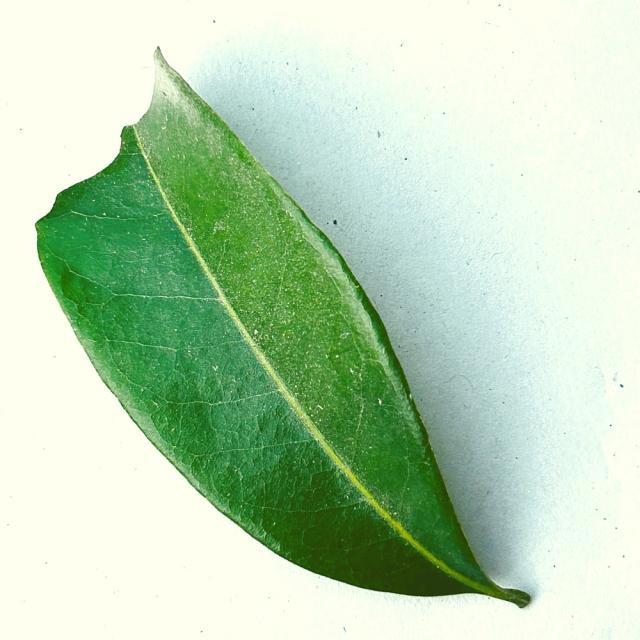Dry_Leaf-Lychee: (15, 45, 154, 239)
Lychee: (36, 49, 529, 607)
